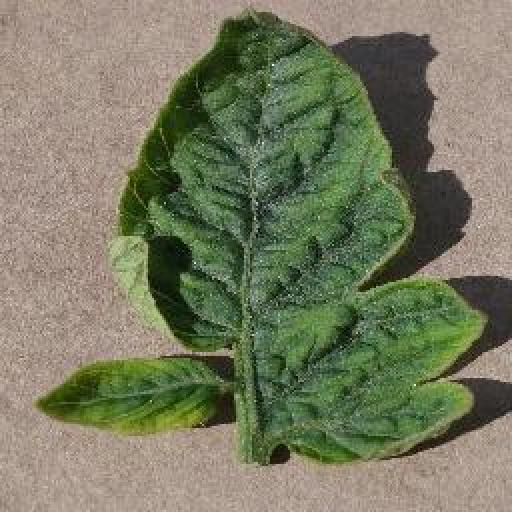disease_tomato: (111, 8, 488, 464), (38, 354, 226, 434)
